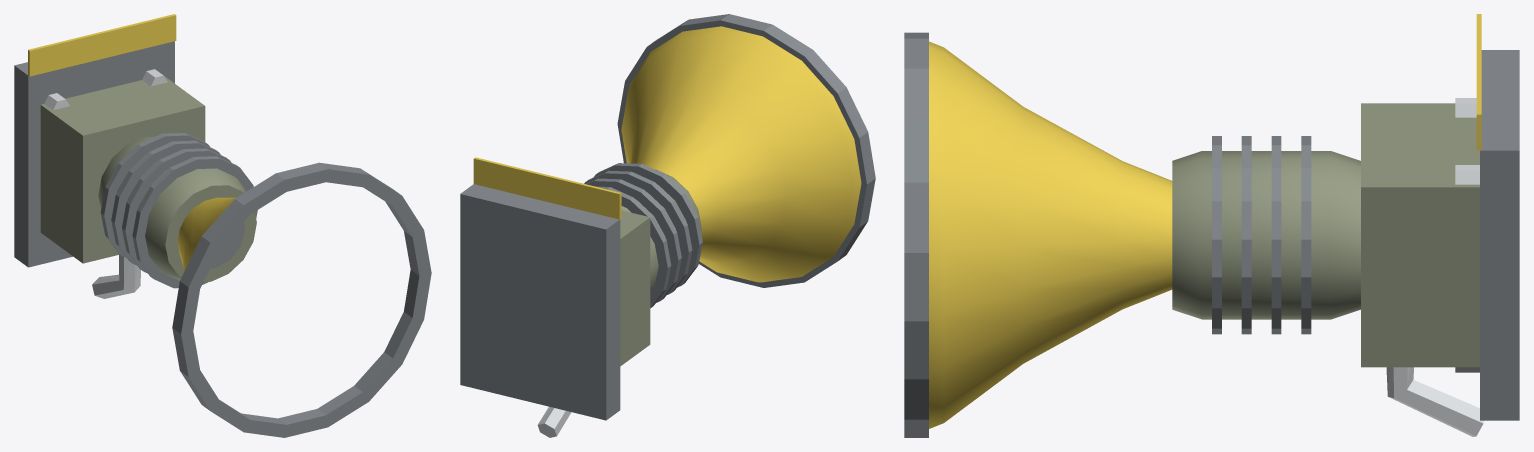
File: cold-war-missile-silo-and-command-bunker-wall-klaxon-dea8c9ce__15700.glb
The picture shows the model from 3 angles, left to right: view 1: azimuth 30°, elevation 25°; view 2: azimuth 150°, elevation 25°; view 3: azimuth 270°, elevation 25°; orthographic projection. The views are drawn at different scales.
Visible parts, largest first — view 1: wall-klaxon; view 2: wall-klaxon; view 3: wall-klaxon.
Boxes of the visible parts, x1=… form: wall-klaxon: x1=14, y1=14, x2=431, y2=437; wall-klaxon: x1=460, y1=14, x2=875, y2=437; wall-klaxon: x1=904, y1=14, x2=1519, y2=437.
Bounding box in the file's own units: 0.41 × 0.4262 × 0.62.
